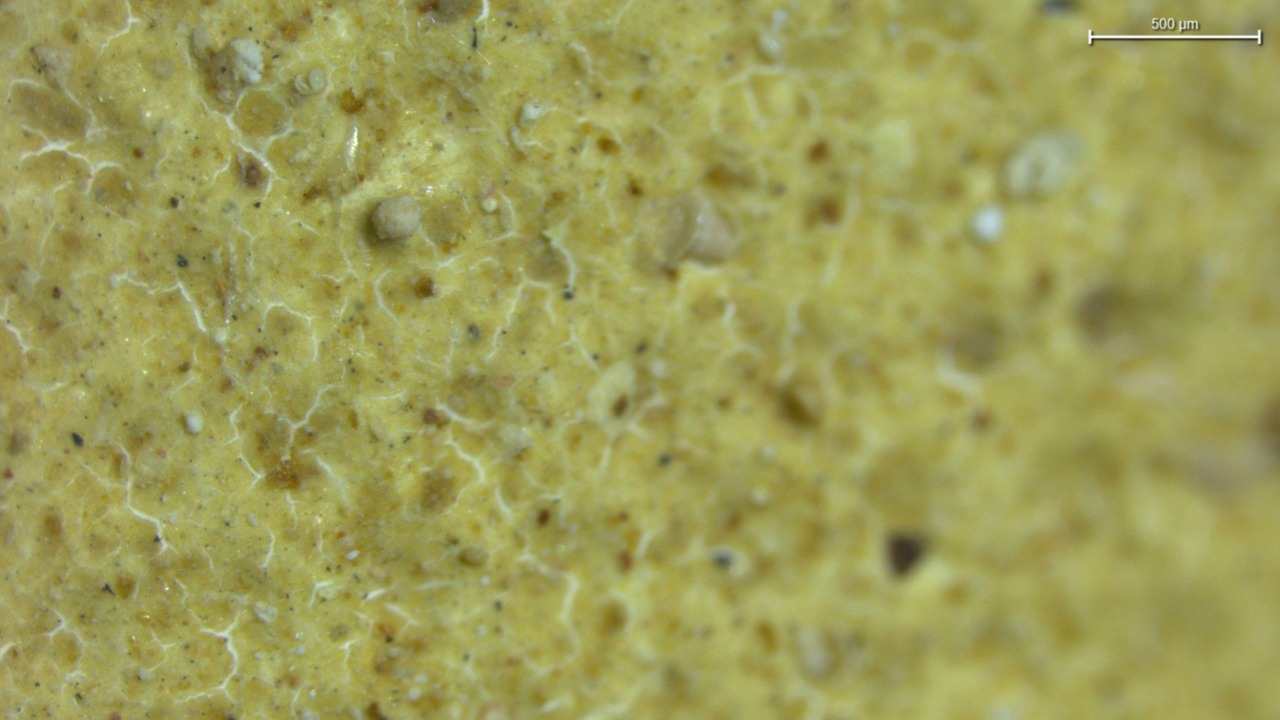microplastic_fragment: (371, 195, 421, 240)
